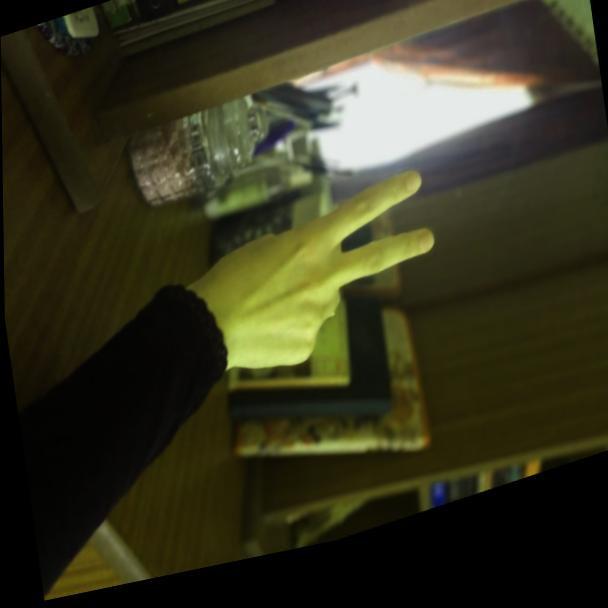two: (166, 150, 457, 434)
